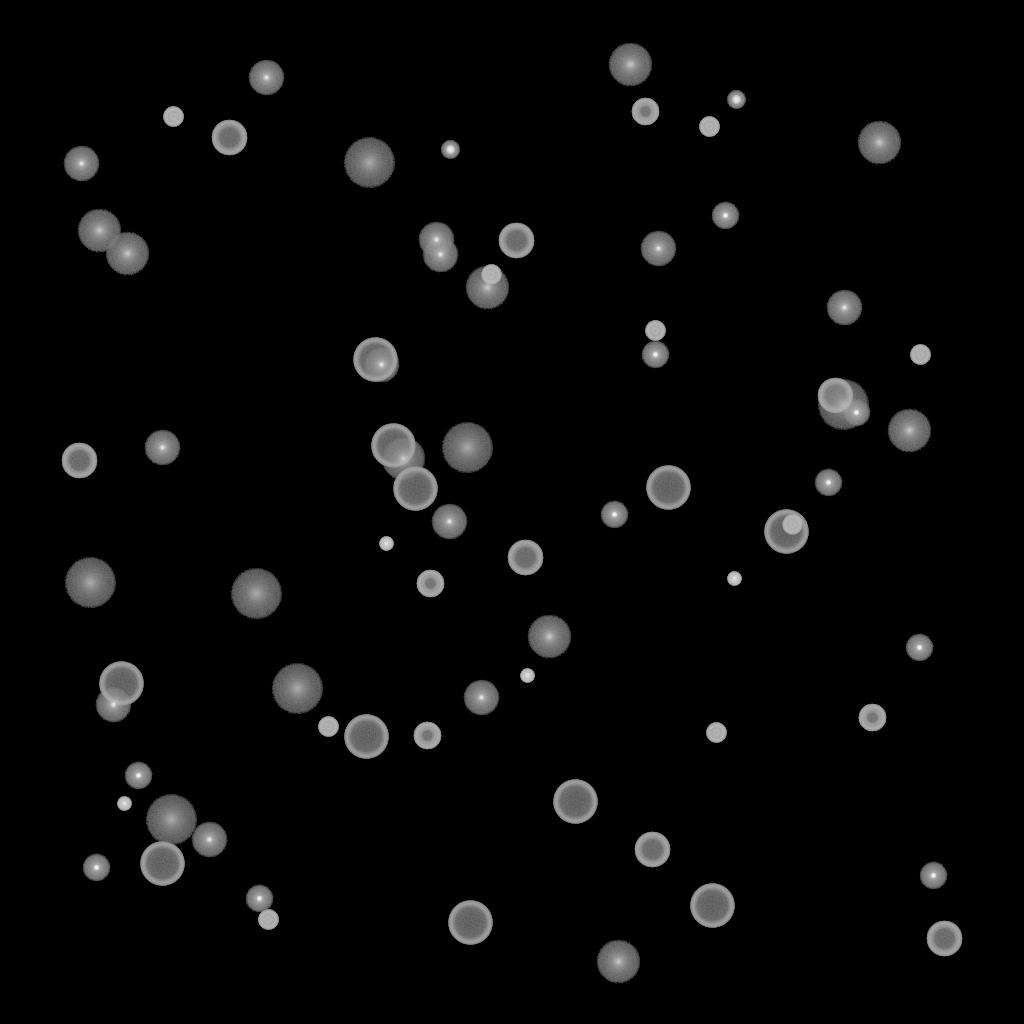depth:-10: (814, 469, 842, 497), (82, 854, 110, 882), (124, 762, 152, 790), (842, 399, 870, 427), (641, 341, 669, 369), (711, 202, 739, 230), (245, 885, 273, 913), (600, 501, 628, 529), (905, 634, 933, 662), (919, 862, 947, 890)
depth:-20: (727, 91, 745, 109), (441, 141, 459, 159)
depth:-30: (520, 669, 534, 683), (117, 797, 131, 811), (379, 537, 393, 551), (727, 572, 741, 586)
depth:-40: (318, 717, 338, 737), (645, 321, 665, 341), (782, 515, 802, 535), (699, 117, 719, 137), (706, 723, 726, 743), (910, 345, 930, 365), (481, 265, 501, 285), (163, 107, 183, 127), (258, 910, 278, 930)
depth:-50: (416, 570, 444, 598), (413, 722, 441, 750), (631, 98, 659, 126), (858, 704, 886, 732)
depth:-60: (926, 921, 962, 957), (211, 120, 247, 156), (61, 443, 97, 479), (817, 378, 853, 414), (498, 223, 534, 259), (634, 832, 670, 868), (507, 540, 543, 576)
depth:-70: (553, 780, 597, 824), (140, 842, 184, 886), (371, 424, 415, 468), (99, 662, 143, 706), (646, 466, 690, 510), (393, 467, 437, 511), (690, 884, 734, 928), (764, 510, 808, 554), (353, 338, 397, 382), (344, 715, 388, 759), (448, 901, 492, 945)
depth:0: (248, 60, 284, 96), (422, 237, 458, 273), (363, 347, 399, 383), (191, 822, 227, 858), (463, 680, 499, 716), (63, 146, 99, 182), (144, 430, 180, 466), (640, 231, 676, 267), (95, 687, 131, 723), (431, 504, 467, 540), (418, 222, 454, 258), (826, 290, 862, 326)
depth:10: (608, 43, 652, 87), (77, 209, 121, 253), (527, 615, 571, 659), (887, 409, 931, 453), (596, 940, 640, 984), (105, 232, 149, 276), (465, 266, 509, 310), (381, 437, 425, 481), (857, 121, 901, 165)
depth:20: (145, 795, 197, 845), (271, 664, 323, 714), (441, 423, 493, 473), (230, 569, 282, 619), (343, 138, 395, 188), (64, 558, 116, 608), (817, 380, 869, 430)
